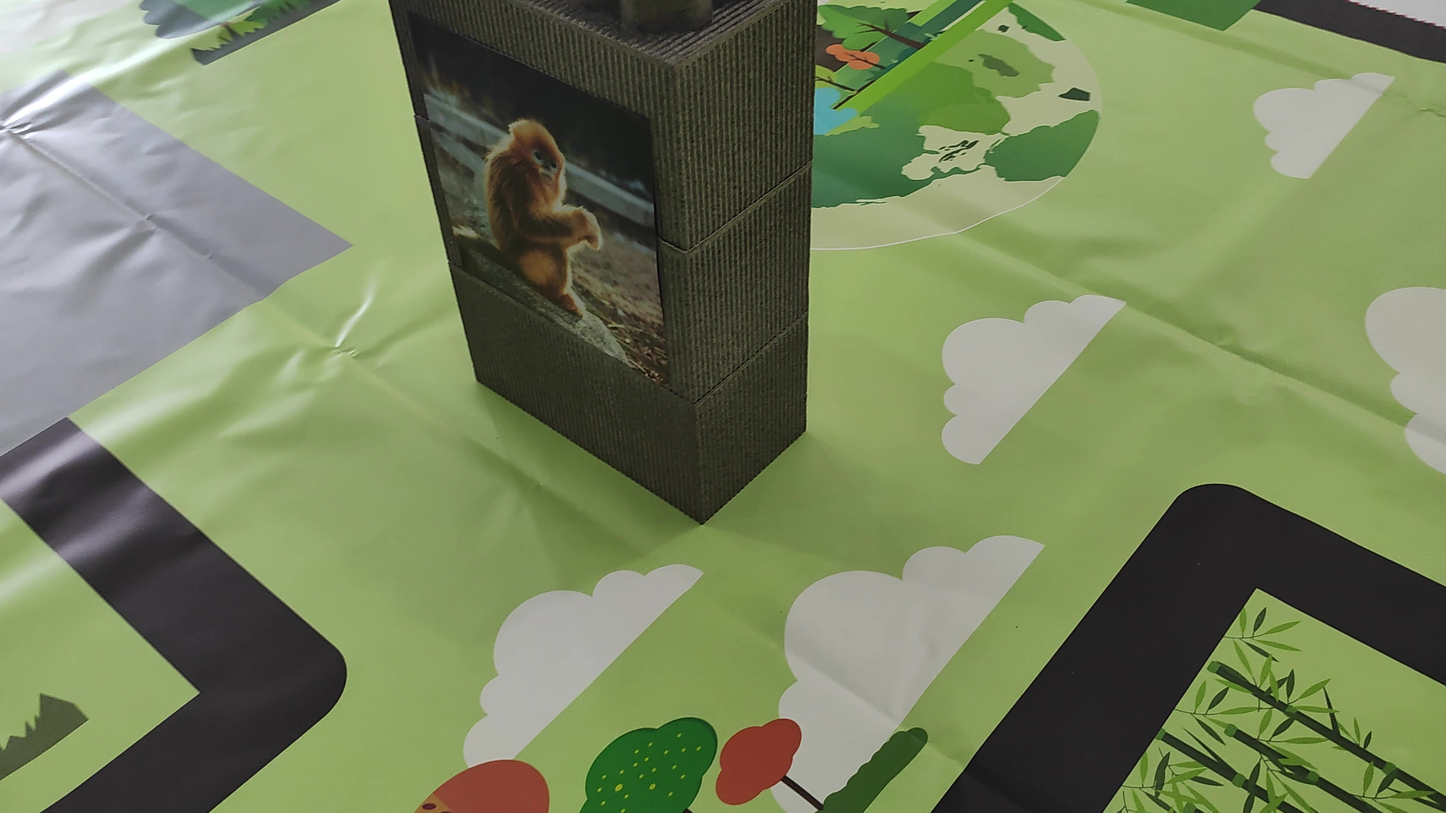monkey: (439, 110, 618, 326)
